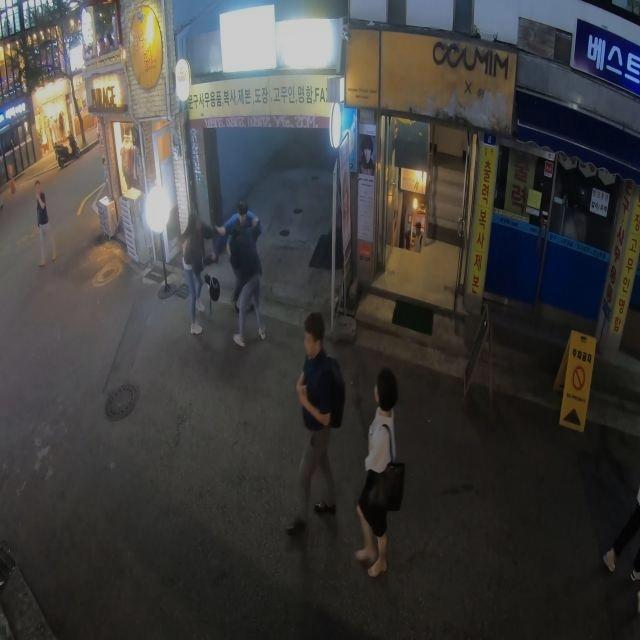fight: (180, 196, 269, 349)
non-fight: (344, 367, 409, 578), (292, 308, 342, 536)
